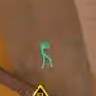hacks_2: (39, 41, 52, 69)
